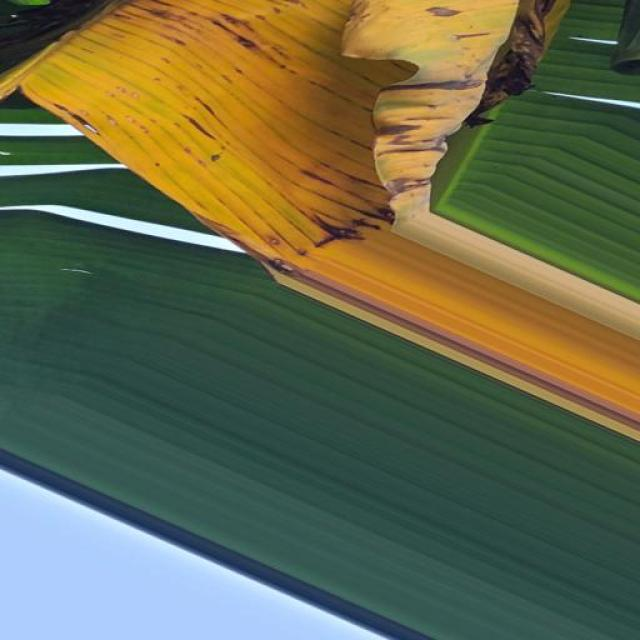Cordana: (0, 0, 518, 374)
